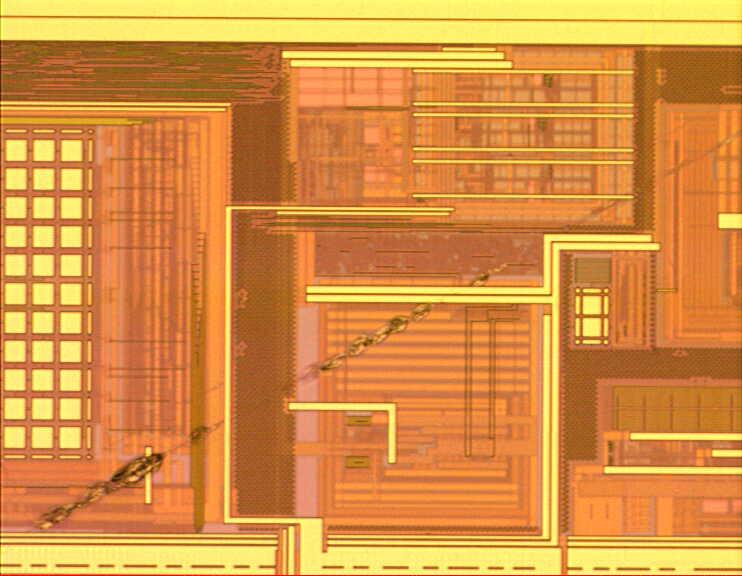SCRATCH: (27, 124, 742, 540)
